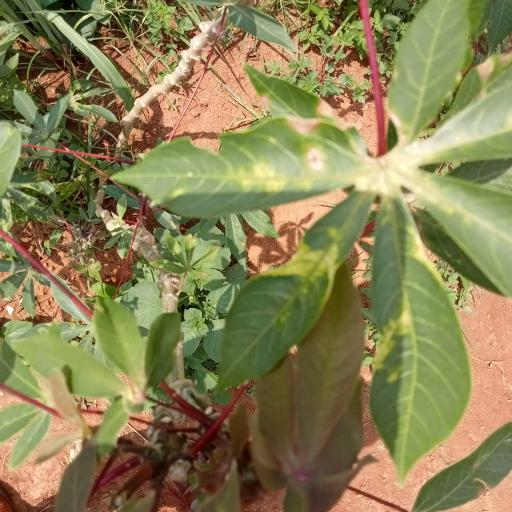Cassava_Healthy: (132, 8, 510, 430)
